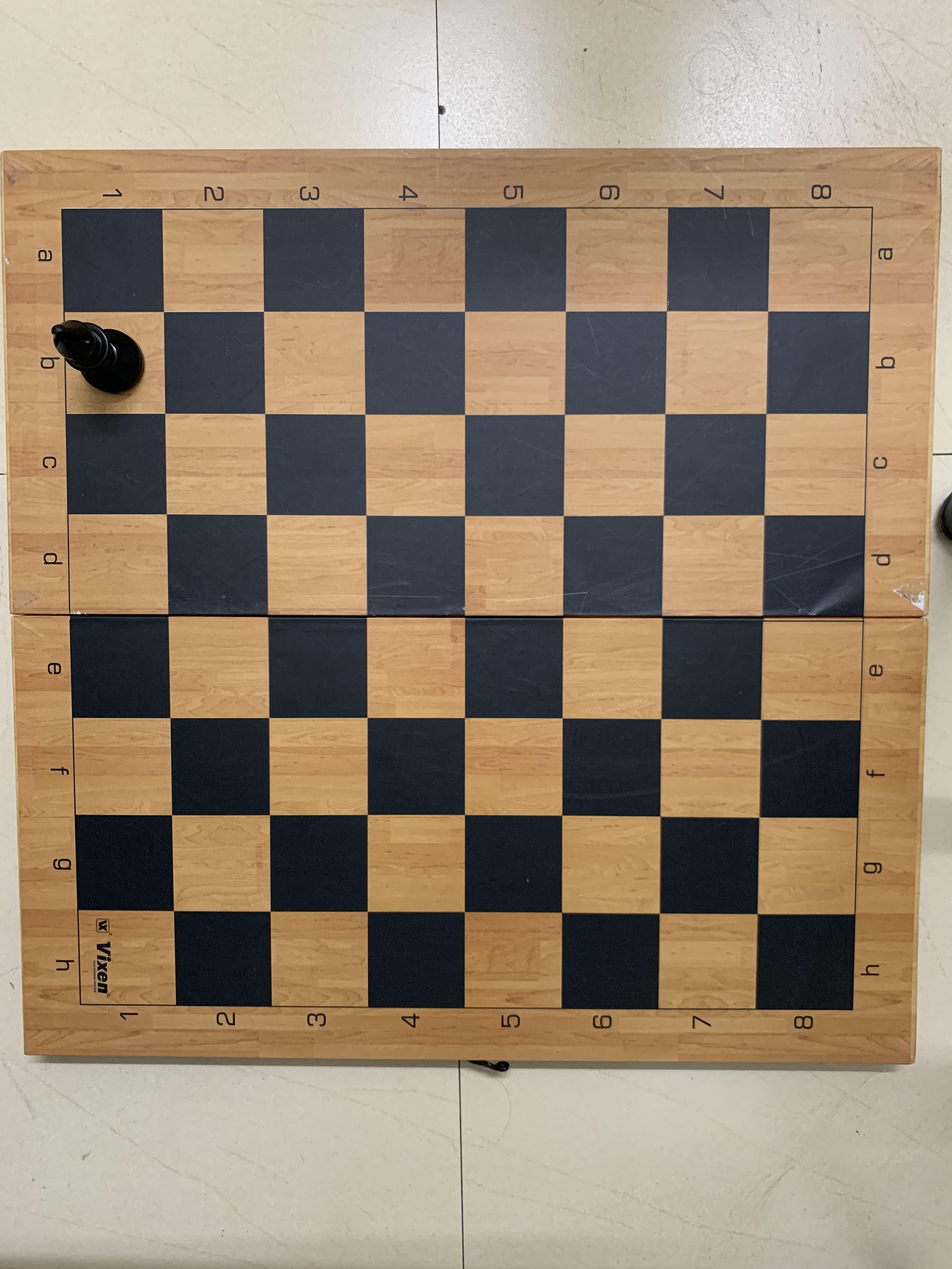black_bishop: (47, 316, 165, 409)
